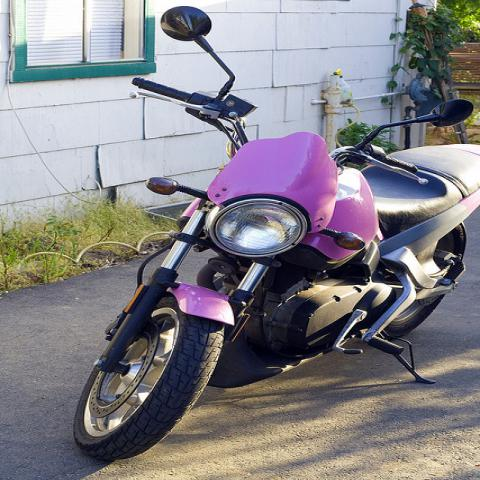motorcycle: (64, 6, 479, 466)
